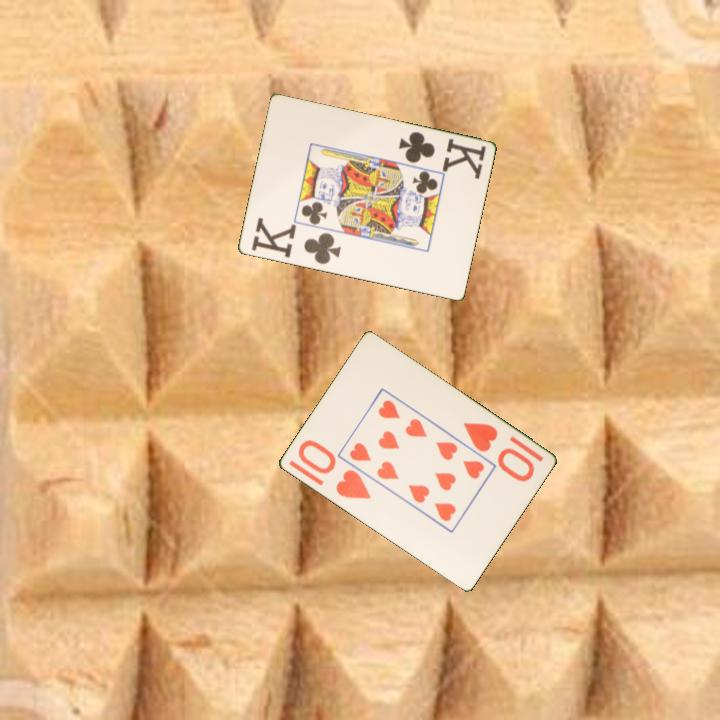10h: (294, 436, 374, 502), (459, 419, 537, 484)
Kc: (248, 215, 344, 268), (394, 128, 489, 181)
